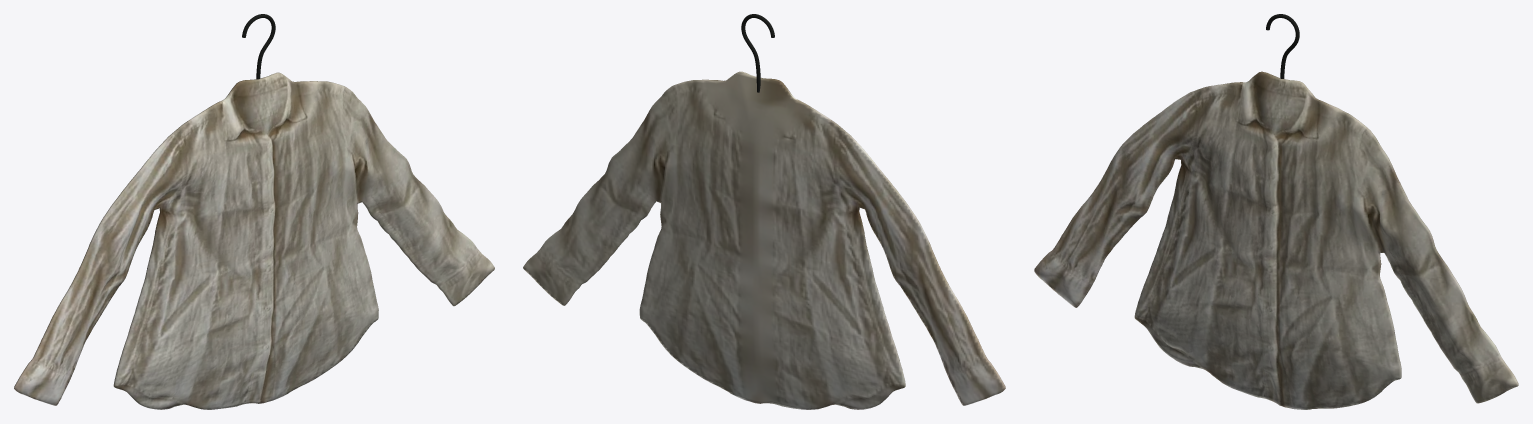
Rendered from gomlek.gltf.
The picture shows the model from 3 angles, left to right: view 1: azimuth 30°, elevation 25°; view 2: azimuth 150°, elevation 25°; view 3: azimuth 330°, elevation 25°; orthographic projection.
Parts seen in each view (by area): view 1: gomlek, aski; view 2: gomlek, aski; view 3: gomlek, aski.
Boxes of the visible parts, bbox=[...] form: gomlek: bbox=[14, 72, 494, 409]; aski: bbox=[242, 14, 275, 79]; gomlek: bbox=[523, 71, 1005, 409]; aski: bbox=[741, 14, 774, 92]; gomlek: bbox=[1034, 71, 1518, 409]; aski: bbox=[1266, 14, 1299, 78].
Bounding box in the file's own units: 1.16 × 0.8932 × 0.068.
Materials: 2 (1 with a texture image).
